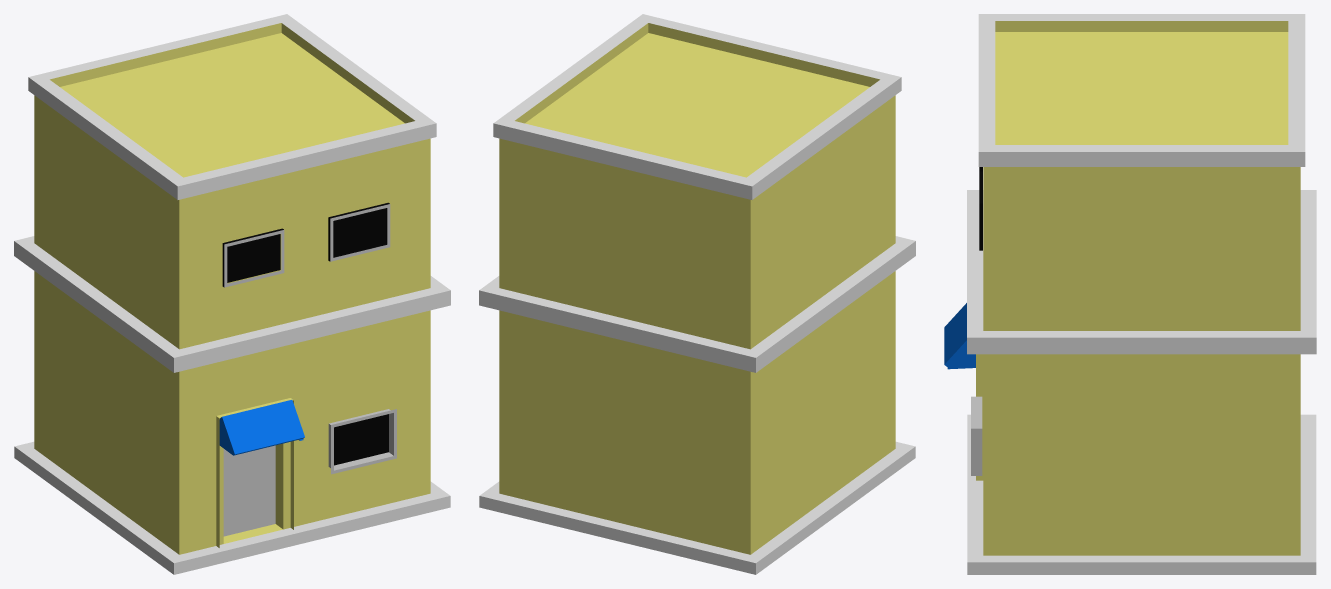
The model's file is muranobuilding.gltf.
3 views of the same model, side by side, from view 1: azimuth 30°, elevation 25°; view 2: azimuth 150°, elevation 25°; view 3: azimuth 270°, elevation 25° (orthographic). The views are drawn at different scales.
Visible parts, largest first — view 1: Building; view 2: Building; view 3: Building.
Part boxes in pixels (x1,y1,x2,y2): Building: [14, 14, 450, 574]; Building: [479, 14, 915, 574]; Building: [944, 14, 1316, 574].
Bounding box in the file's own units: 3.81 × 5.03 × 4.06.
